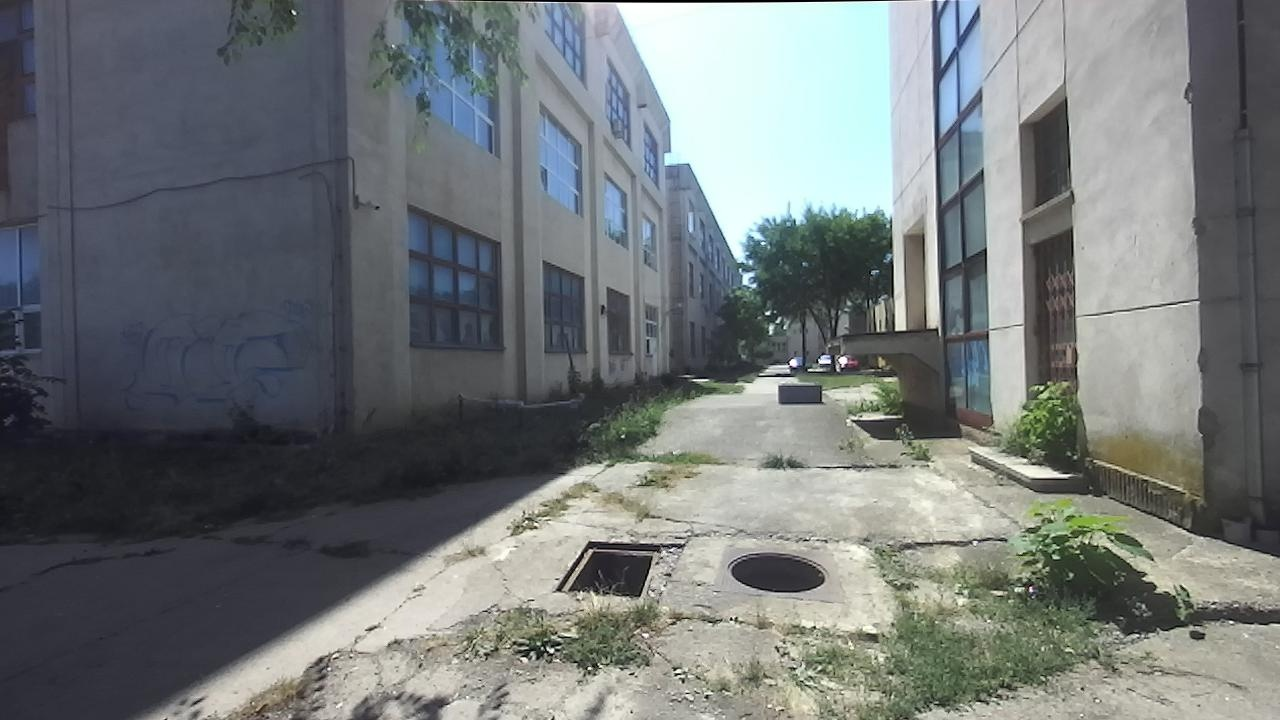drain: (548, 536, 669, 601), (722, 547, 834, 596)
